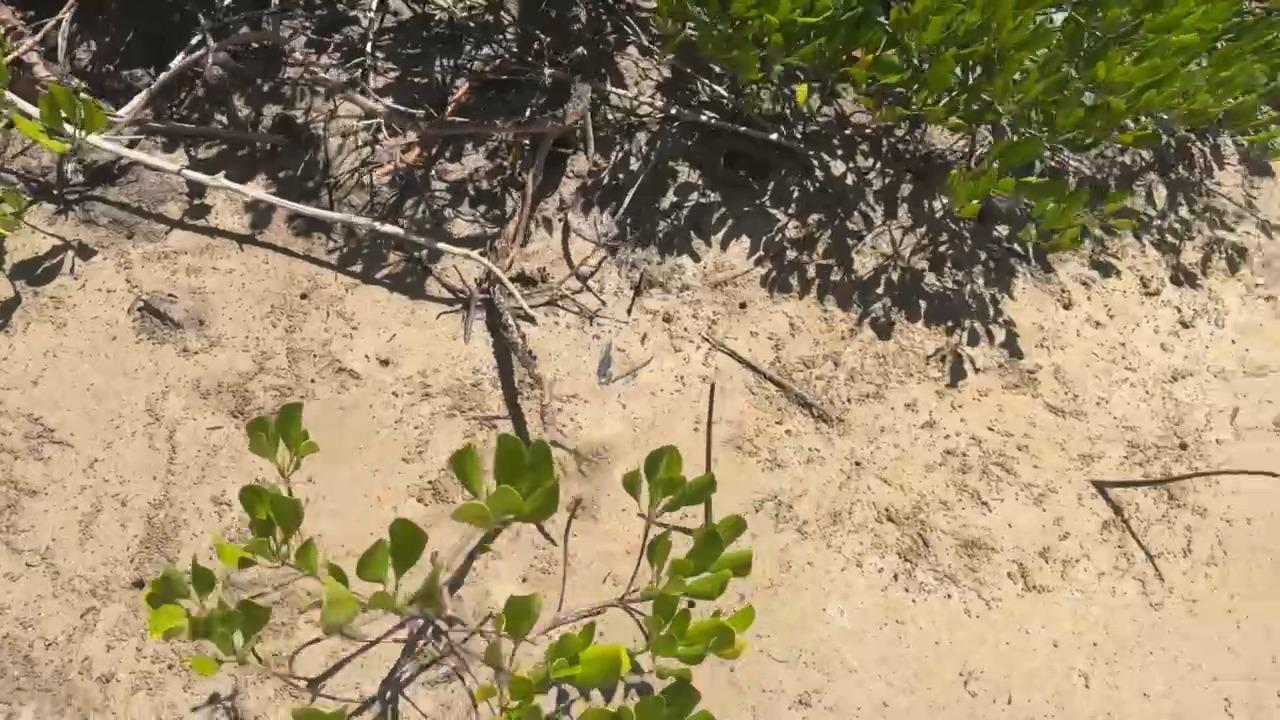Tree: (1090, 468, 1280, 489), (703, 379, 718, 527)
